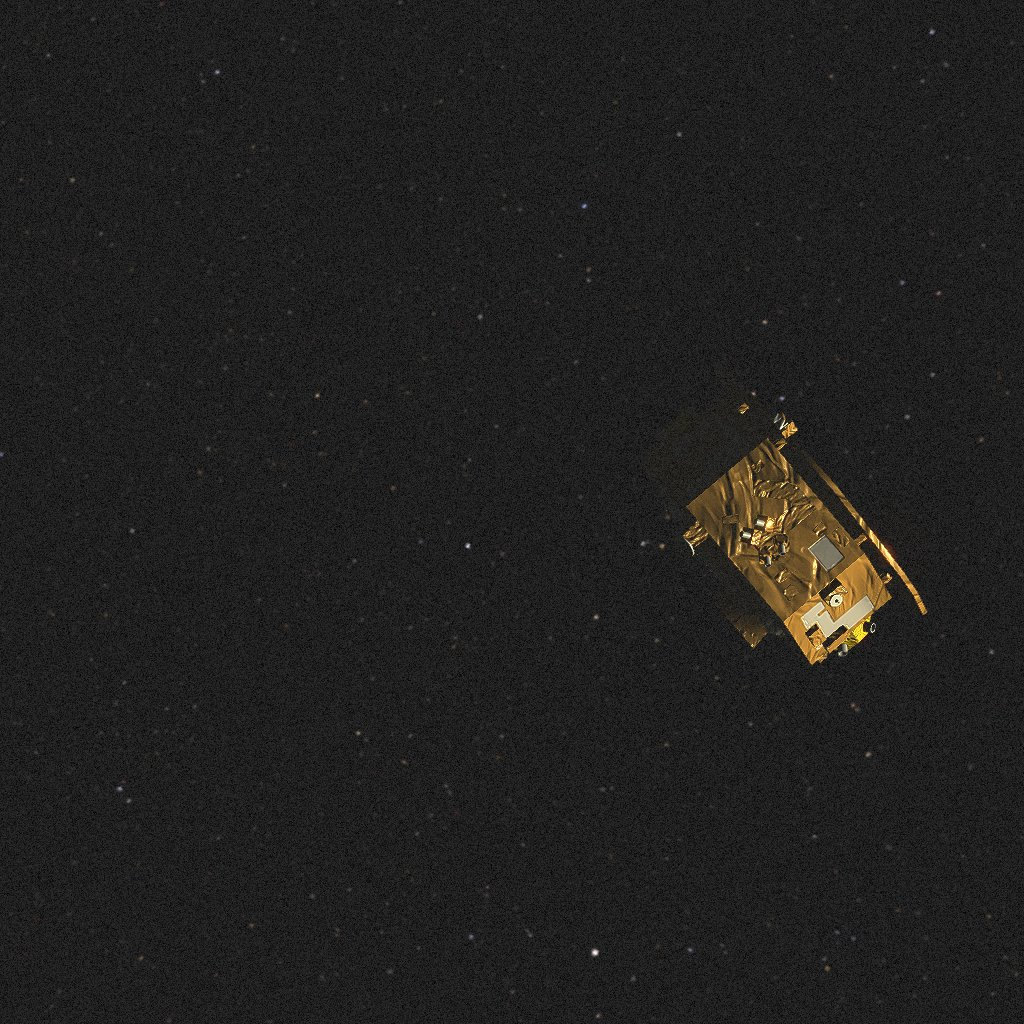lisa_pathfinder: (640, 361, 927, 665)
